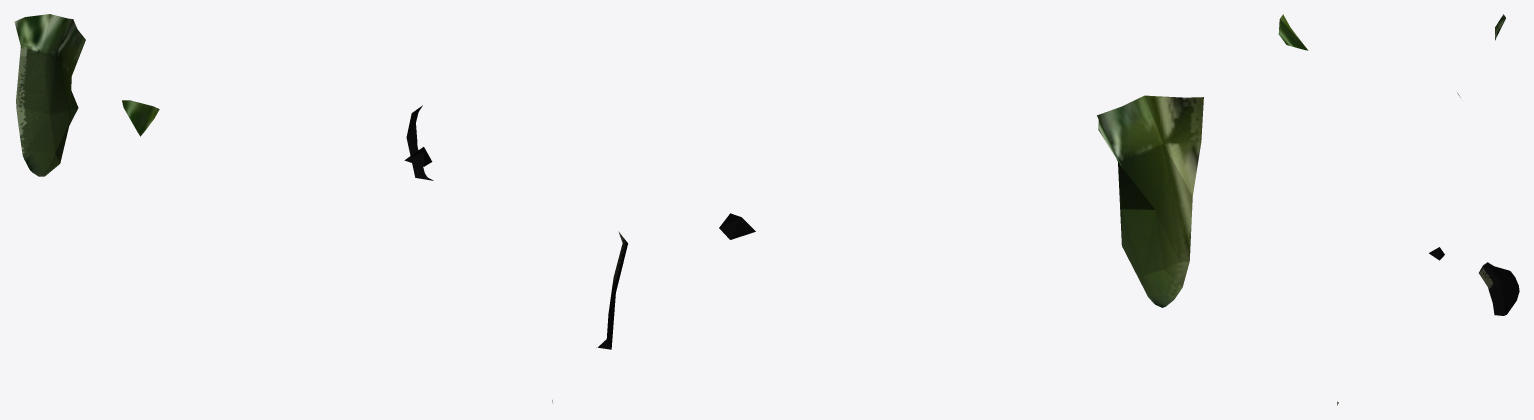
The picture shows the model from 3 angles, left to right: view 1: azimuth 30°, elevation 25°; view 2: azimuth 150°, elevation 25°; view 3: azimuth 270°, elevation 25°; orthographic projection. The views are drawn at different scales.
Bounding box in the file's own units: 1.67 × 1.52 × 0.97.
1 material, 1 textured.
